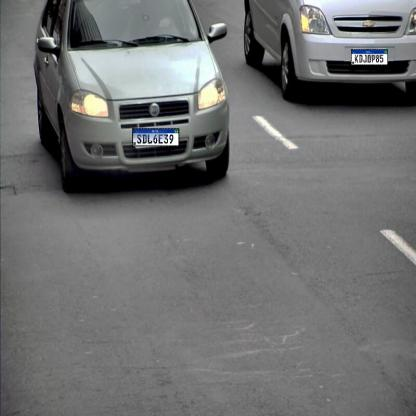PlacaM: (132, 128, 179, 146), (351, 49, 388, 65)
